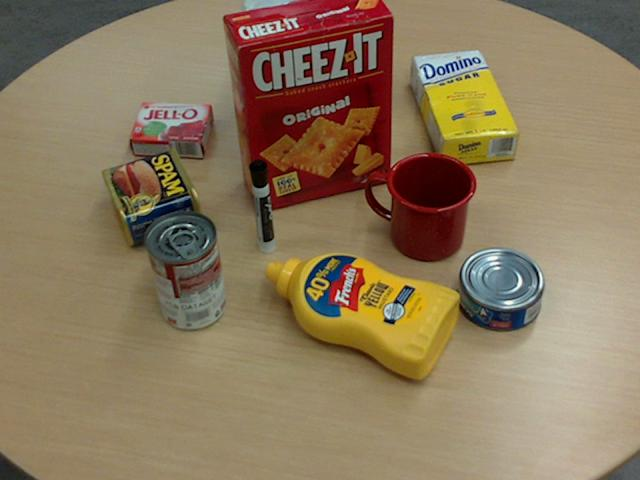cracker_box: (222, 0, 393, 210)
gelatin_box: (127, 100, 212, 157)
large_marker: (248, 159, 275, 254)
master_chef_can: (242, 0, 331, 127)
mug: (366, 151, 476, 260)
mustard_bottle: (264, 253, 459, 378)
potted_meat_can: (102, 145, 204, 245)
sugar_box: (410, 49, 520, 166)
tomato_soup_can: (142, 209, 224, 329)
tuna_fish_can: (457, 247, 545, 330)
